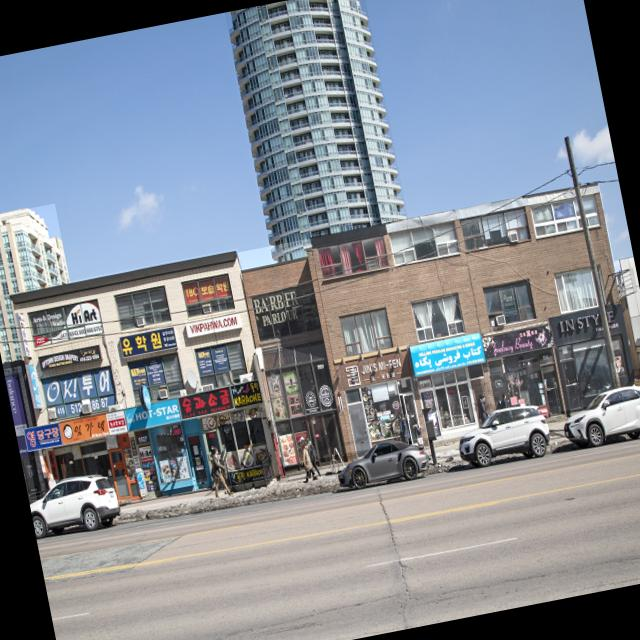House: (237, 182, 640, 467), (0, 248, 282, 526), (224, 0, 412, 265), (0, 203, 83, 363), (2, 359, 52, 503), (613, 256, 640, 394)
